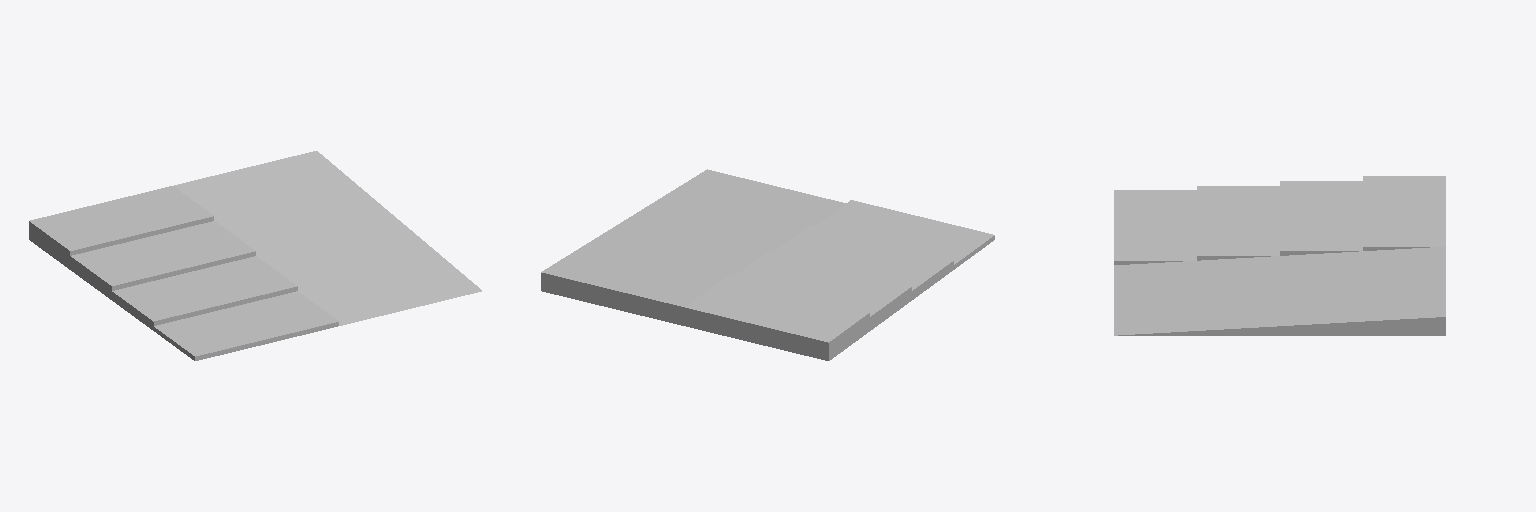
File: spaceInterior_077.obj
3 views of the same model, side by side, from view 1: azimuth 30°, elevation 25°; view 2: azimuth 150°, elevation 25°; view 3: azimuth 270°, elevation 25° (orthographic).
Visible parts, largest first — view 1: Mesh1 Group1 Model; view 2: Mesh1 Group1 Model; view 3: Mesh1 Group1 Model.
Boxes of the visible parts, x1,y1,x2,y2 form: Mesh1 Group1 Model: [29, 151, 481, 360]; Mesh1 Group1 Model: [541, 169, 994, 360]; Mesh1 Group1 Model: [1114, 176, 1445, 335].
Bounding box in the file's own units: 1 × 0.0625 × 1.